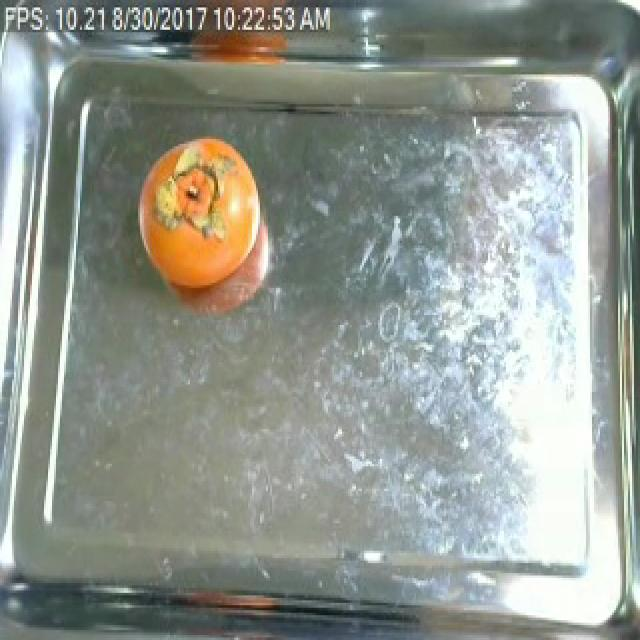Fruit: (130, 129, 266, 295)
